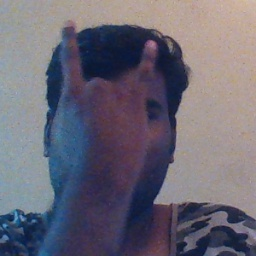V: (52, 16, 162, 177)
